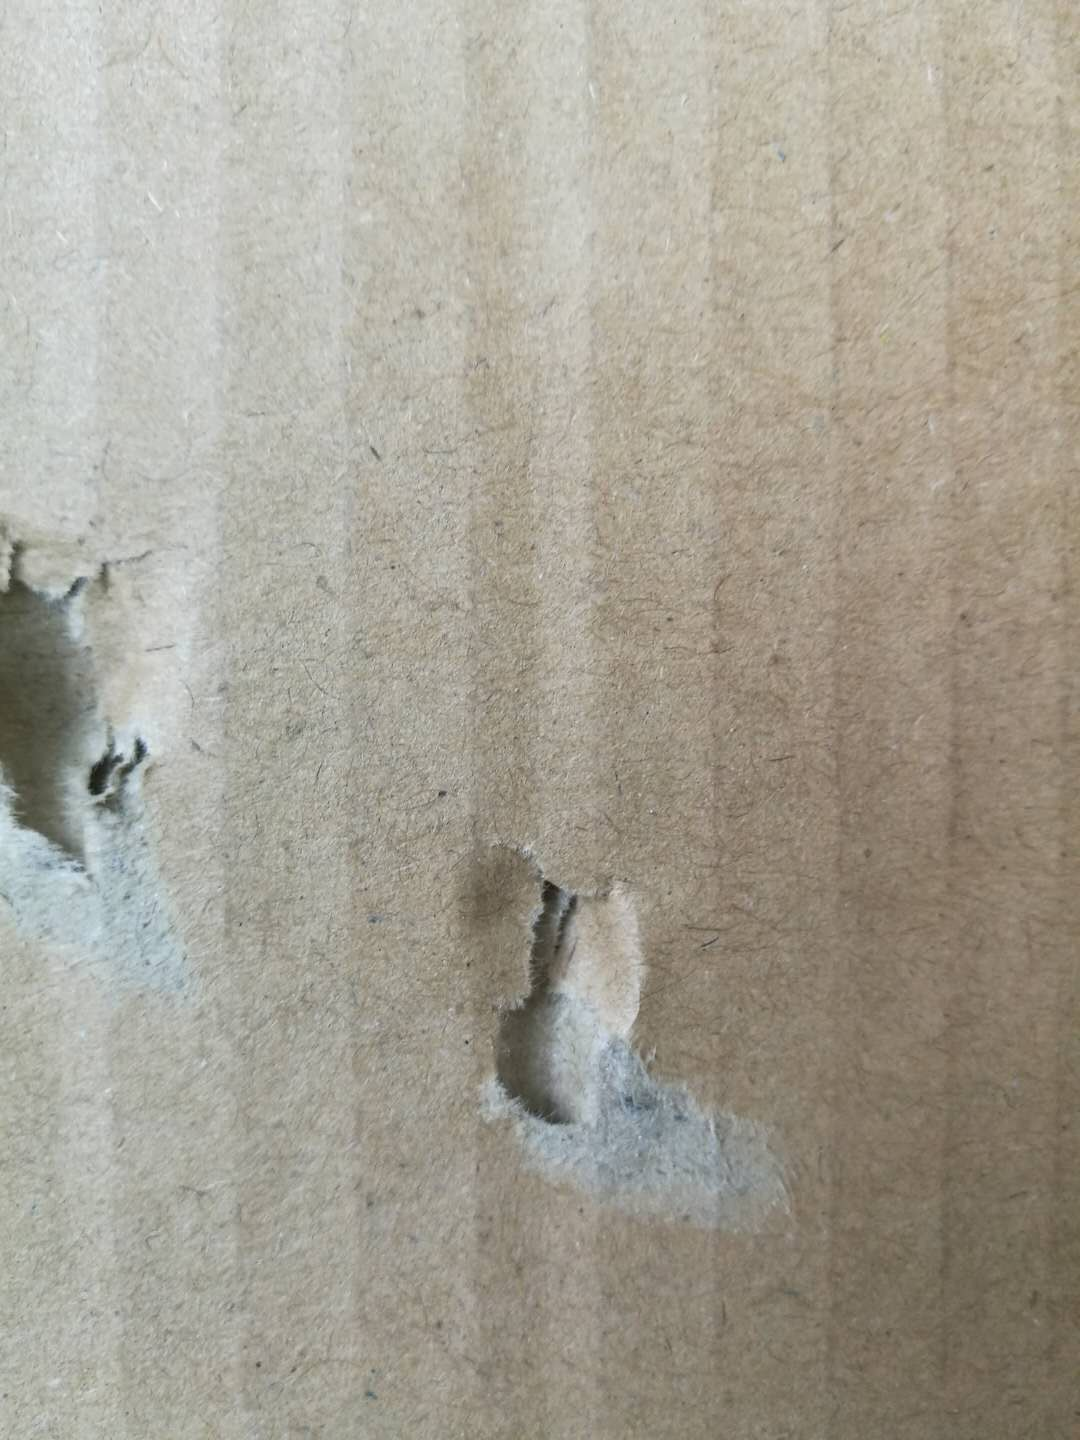defect: (425, 805, 826, 1276), (2, 461, 263, 1073)
